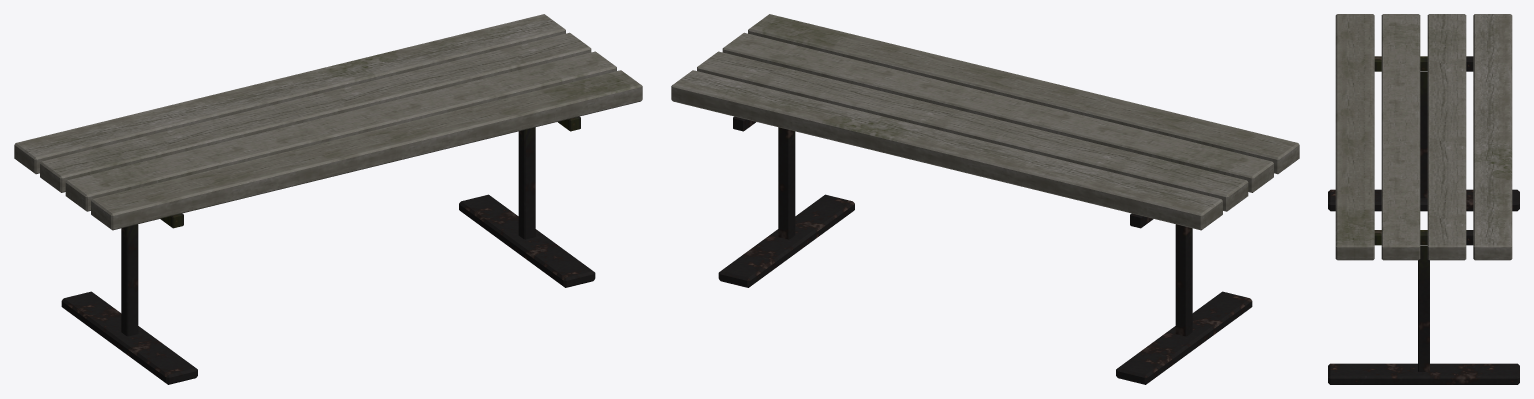
File: bench2.glb
The picture shows the model from 3 angles, left to right: view 1: azimuth 30°, elevation 25°; view 2: azimuth 150°, elevation 25°; view 3: azimuth 270°, elevation 25°; orthographic projection. The views are drawn at different scales.
Visible parts, largest first — view 1: SM_Bench02; view 2: SM_Bench02; view 3: SM_Bench02.
Boxes of the visible parts, x1,y1,x2,y2 form: SM_Bench02: (14,14,642,384); SM_Bench02: (671,14,1299,384); SM_Bench02: (1328,14,1519,384).
Size of the model in its own units: 1.56 by 0.5091 by 0.5446.
1 material, 1 textured.
